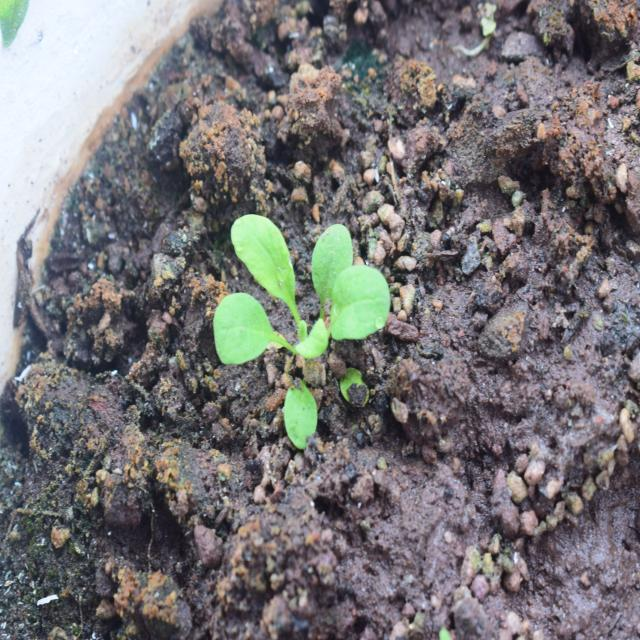Shepherd_Purse: (209, 202, 389, 410)
